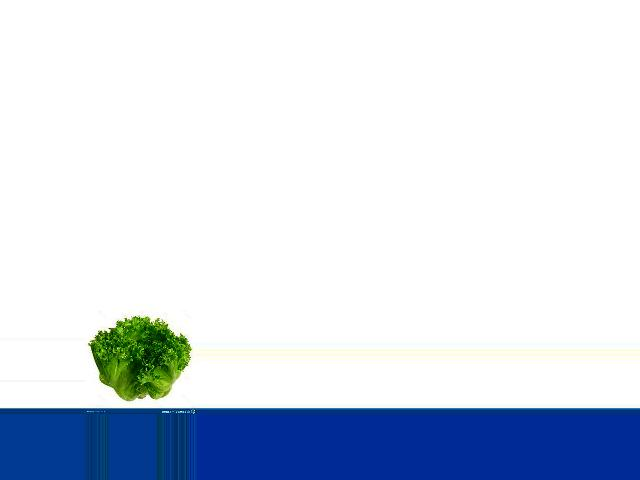lettuce: (92, 313, 191, 406)
